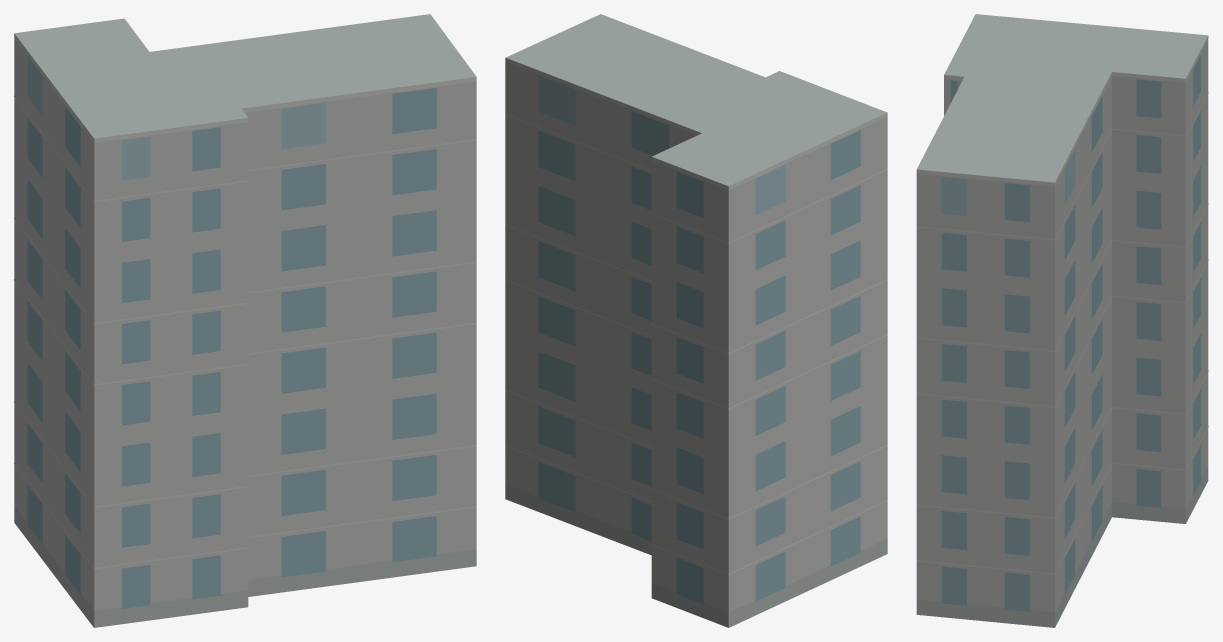
File: survey-upis-32794894.glb
3 views of the same model, side by side, from view 1: azimuth 30°, elevation 25°; view 2: azimuth 150°, elevation 25°; view 3: azimuth 270°, elevation 25° (orthographic). The views are drawn at different scales.
Visible parts, largest first — view 1: survey-upis-32794894.tmp; view 2: survey-upis-32794894.tmp; view 3: survey-upis-32794894.tmp.
Part boxes in pixels (x1,y1,x2,y2): survey-upis-32794894.tmp: (14,14,476,627); survey-upis-32794894.tmp: (505,14,887,627); survey-upis-32794894.tmp: (916,14,1208,627).
Bounding box in the file's own units: 21.47 × 26.4 × 15.7.
